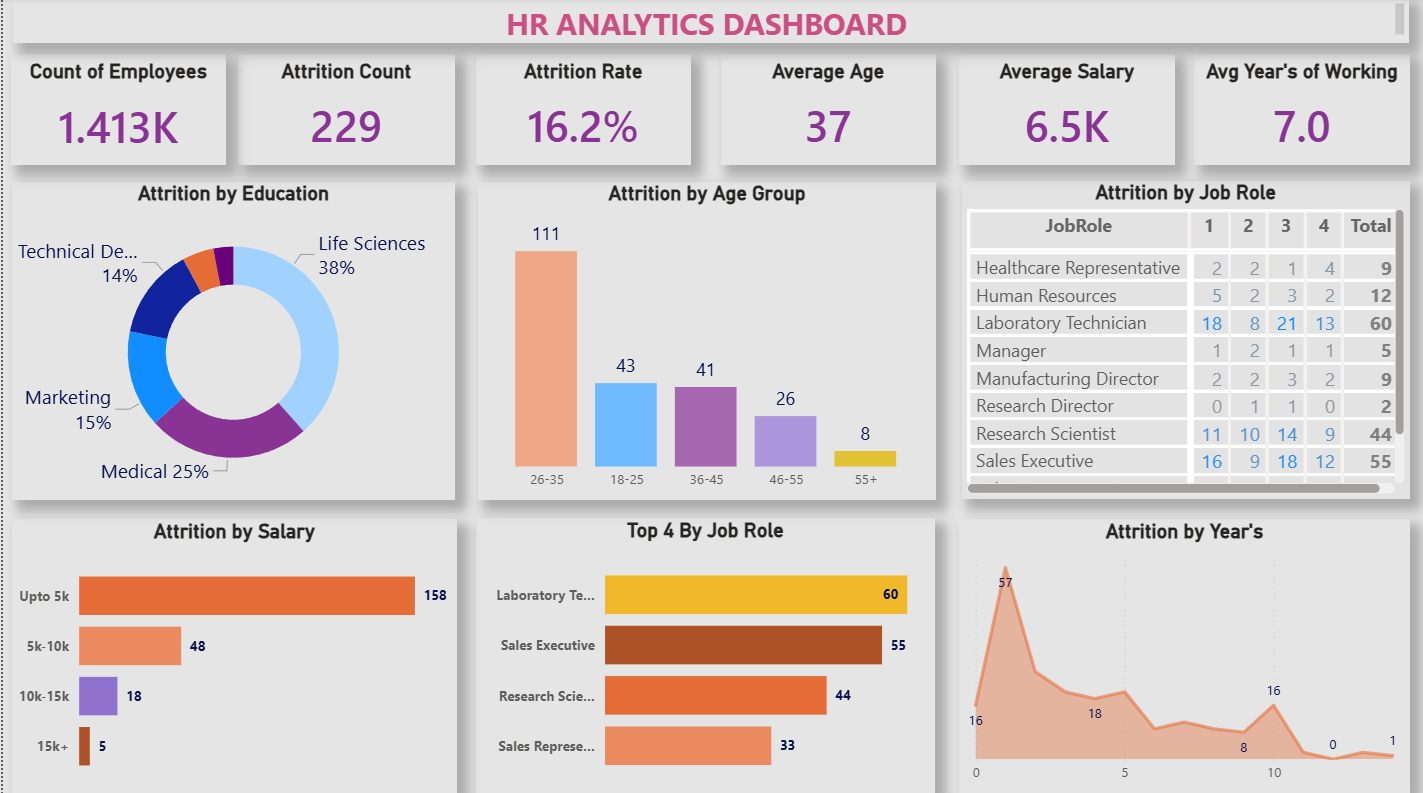

The page's visual inventory and layout, read from the dashboard file:
{"tool":"powerbi","page":{"name":"Page 1","canvas":[1280,720],"ordinal":0},"visuals":[{"type":"cardVisual","title":"Count of Employees","fields":{"Data":["CountNonNull(HR_Analytics.EmpID)"]},"box":[6.4,50.6,194.7,100],"z":0},{"type":"cardVisual","title":"Attrition Rate","fields":{"Data":["HR_Analytics.AttritionRate"]},"box":[425.8,50.8,194.4,99.7],"z":1000},{"type":"cardVisual","title":"Average Age","fields":{"Data":["Avg(HR_Analytics.Age)"]},"box":[647,50.8,194.4,99.7],"z":2000},{"type":"cardVisual","title":"Attrition Count","fields":{"Data":["Sum(HR_Analytics.AttritionCount)"]},"box":[212.2,50.8,195.6,99.7],"z":3000},{"type":"cardVisual","title":"Average Salary","fields":{"Data":["Avg(HR_Analytics.MonthlyIncome)"]},"box":[861.8,50.8,194.4,99.7],"z":4000},{"type":"cardVisual","title":"Avg Year''s of Working","fields":{"Data":["Avg(HR_Analytics.YearsAtCompany)"]},"box":[1074.1,50.8,194.4,99.7],"z":5000},{"type":"donutChart","title":"Attrition by Education","fields":{"Category":["HR_Analytics.EducationField"],"Y":["Sum(HR_Analytics.AttritionCount)"]},"box":[8.2,165.4,400,287],"z":6000},{"type":"columnChart","title":"Attrition by Age Group","fields":{"Y":["Sum(HR_Analytics.AttritionCount)"],"Category":["HR_Analytics.AgeGroup"]},"box":[428.2,165.4,413,287],"z":7000},{"type":"pivotTable","title":"Attrition by Job Role","fields":{"Rows":["HR_Analytics.JobRole"],"Columns":["HR_Analytics.JobSatisfaction"],"Values":["Sum(HR_Analytics.AttritionCount)"]},"box":[864,165,404,287],"z":8000},{"type":"barChart","title":"Attrition by Salary","fields":{"Category":["HR_Analytics.SalarySlab"],"Y":["Sum(HR_Analytics.AttritionCount)"]},"box":[7.4,469.8,401.5,246.8],"z":9000},{"type":"barChart","title":"Top 4 By Job Role","fields":{"Category":["HR_Analytics.JobRole"],"Y":["Sum(HR_Analytics.AttritionCount)"]},"box":[425.6,468.7,414.8,247.6],"z":9001},{"type":"areaChart","title":"Attrition by Year''s","fields":{"Category":["HR_Analytics.YearsAtCompany"],"Y":["Sum(HR_Analytics.AttritionCount)"]},"box":[862.6,469.9,406.1,246.4],"z":9002},{"type":"textbox","box":[9,0,1259,41],"z":9003}]}

Visuals, with their boxes in screenshot pixels (x1, y1, x2, y2), scaled from the page's 1280x720 canvas onto the 1423x793 screenshot:
"Count of Employees" cardVisual: left=7, top=56, right=224, bottom=166
"Attrition Rate" cardVisual: left=473, top=56, right=689, bottom=166
"Average Age" cardVisual: left=719, top=56, right=935, bottom=166
"Attrition Count" cardVisual: left=236, top=56, right=453, bottom=166
"Average Salary" cardVisual: left=958, top=56, right=1174, bottom=166
"Avg Year''s of Working" cardVisual: left=1194, top=56, right=1410, bottom=166
"Attrition by Education" donutChart: left=9, top=182, right=454, bottom=498
"Attrition by Age Group" columnChart: left=476, top=182, right=935, bottom=498
"Attrition by Job Role" pivotTable: left=961, top=182, right=1410, bottom=498
"Attrition by Salary" barChart: left=8, top=517, right=455, bottom=789
"Top 4 By Job Role" barChart: left=473, top=516, right=934, bottom=789
"Attrition by Year''s" areaChart: left=959, top=518, right=1410, bottom=789
textbox: left=10, top=0, right=1410, bottom=45
